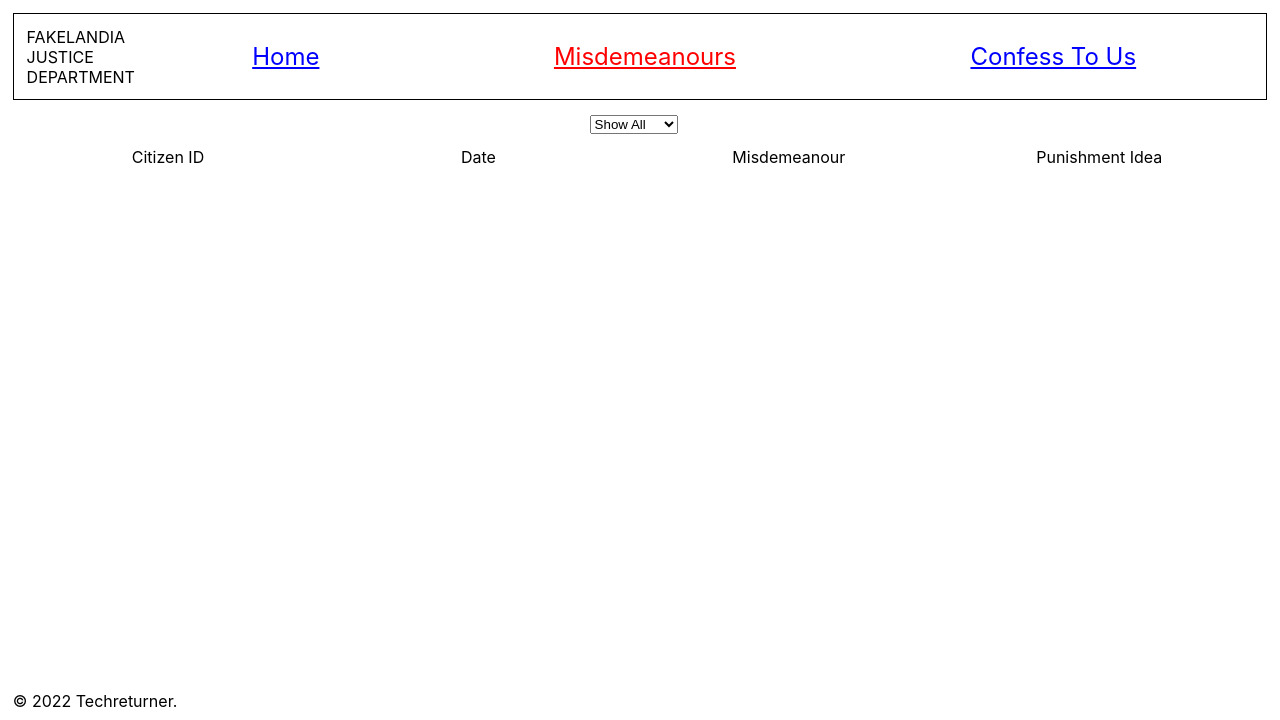
Test: navigates confess when you click 'Confess'
The width and height of the screenshot is (1280, 720).
Click the link "Confess To Us".
click(1053, 57)  # box [970,42,1136,71]
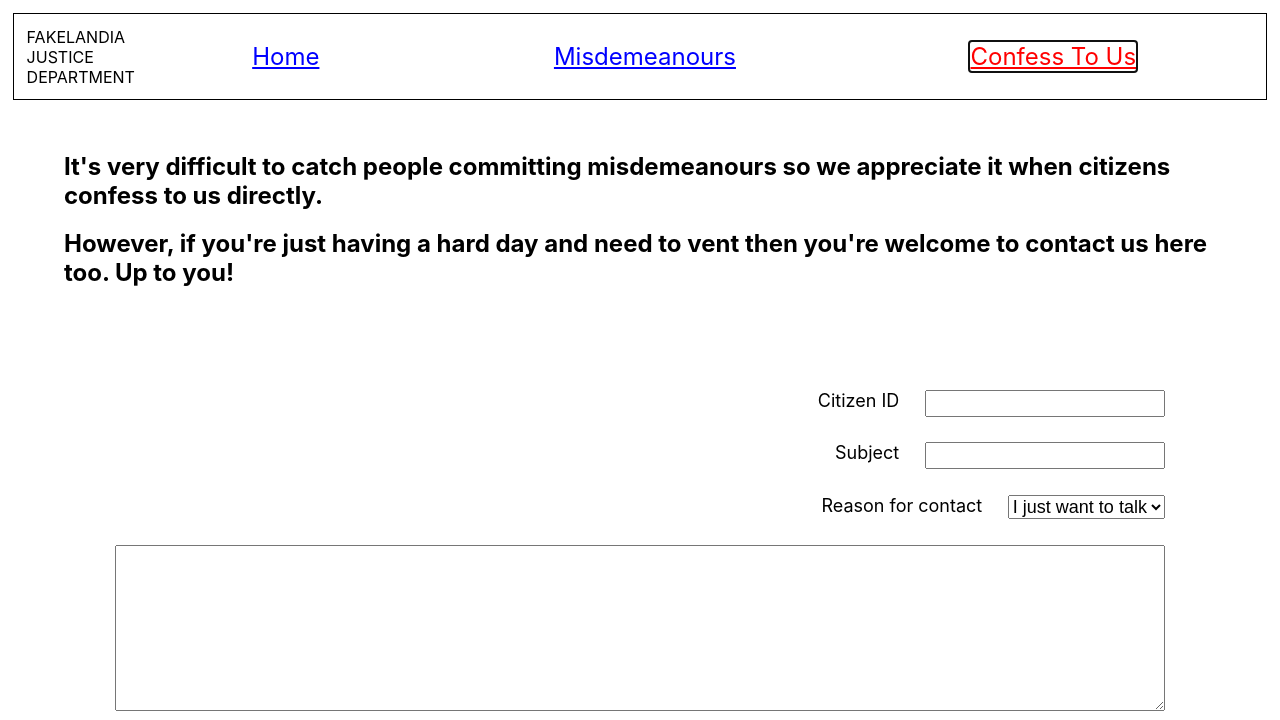
Now the text "Reason for contact" is shown, box [821,495,982,519]
